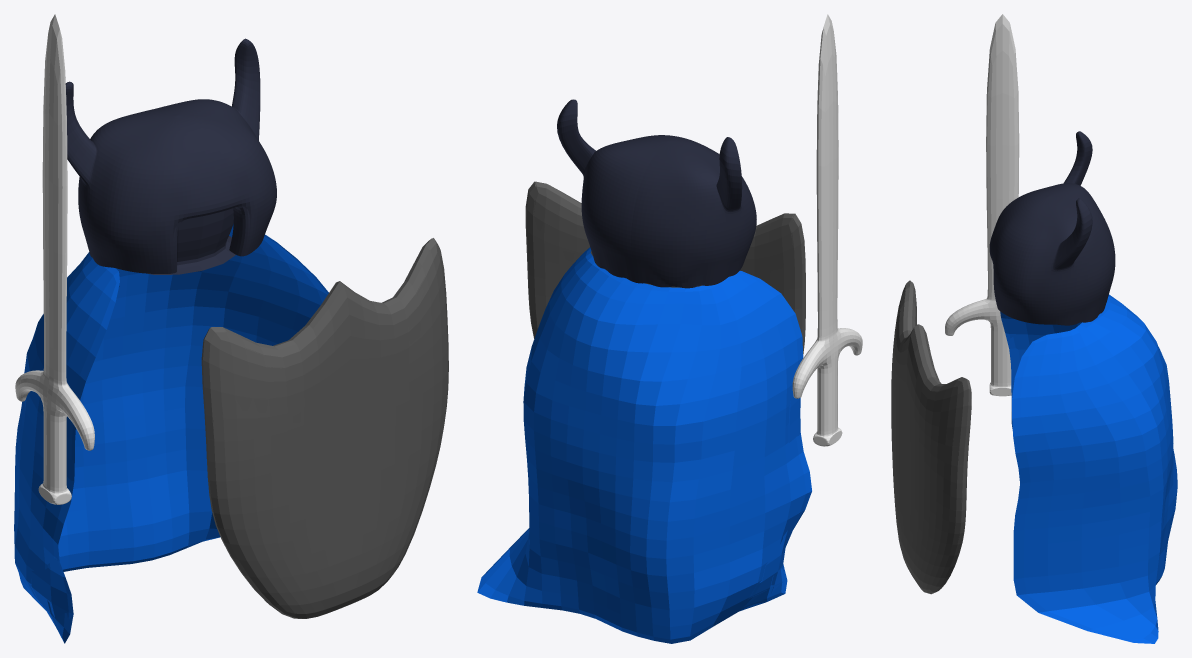
File: KnightLeague 1.fbx
3 views of the same model, side by side, from view 1: azimuth 30°, elevation 25°; view 2: azimuth 150°, elevation 25°; view 3: azimuth 270°, elevation 25° (orthographic). The views are drawn at different scales.
Visible parts, largest first — view 1: Carry, cloak, body, knight; view 2: cloak, body, Carry, knight; view 3: cloak, Carry, body, knight.
Boxes of the visible parts, left/top/right/bottom form: Carry: left=201, top=238, right=448, bottom=618; cloak: left=14, top=224, right=328, bottom=643; body: left=65, top=38, right=276, bottom=274; knight: left=15, top=14, right=94, bottom=504; cloak: left=477, top=247, right=811, bottom=643; body: left=557, top=99, right=756, bottom=288; Carry: left=525, top=181, right=805, bottom=354; knight: left=792, top=14, right=862, bottom=446; cloak: left=1000, top=294, right=1177, bottom=643; Carry: left=891, top=280, right=971, bottom=594; body: left=989, top=131, right=1115, bottom=325; knight: left=945, top=14, right=1019, bottom=396.
Bounding box in the file's own units: 124 × 209 × 105.
